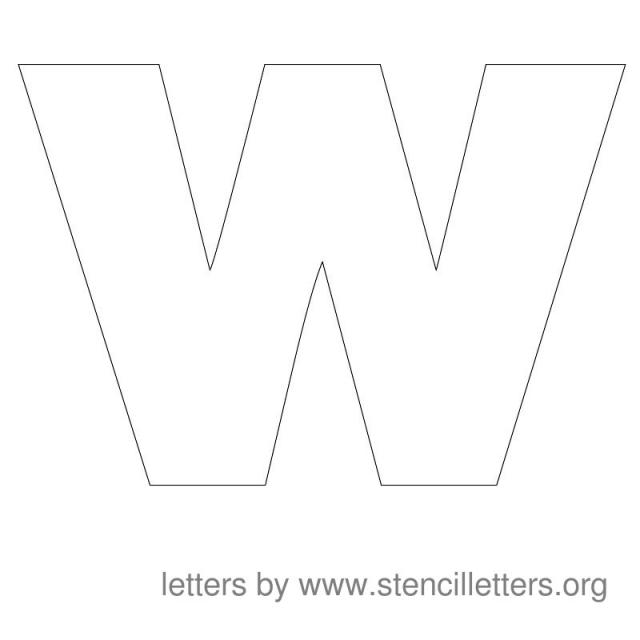W: (8, 13, 628, 553)
